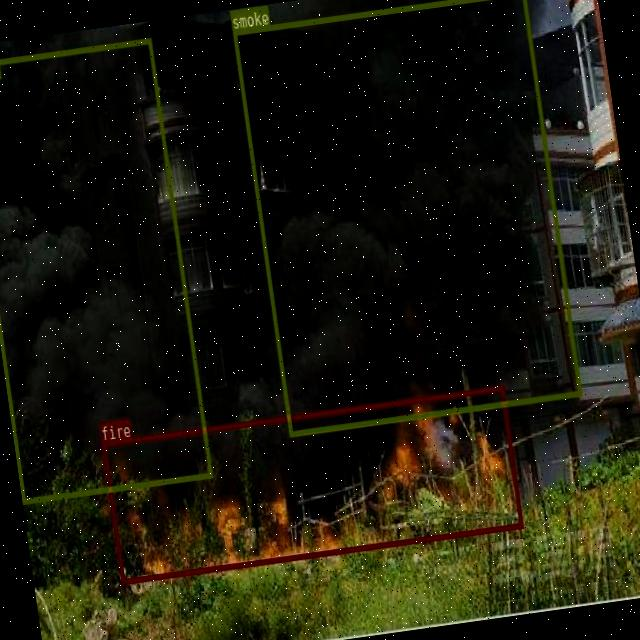fire: (101, 384, 524, 584)
smoke: (232, 0, 581, 435), (0, 36, 211, 502)
